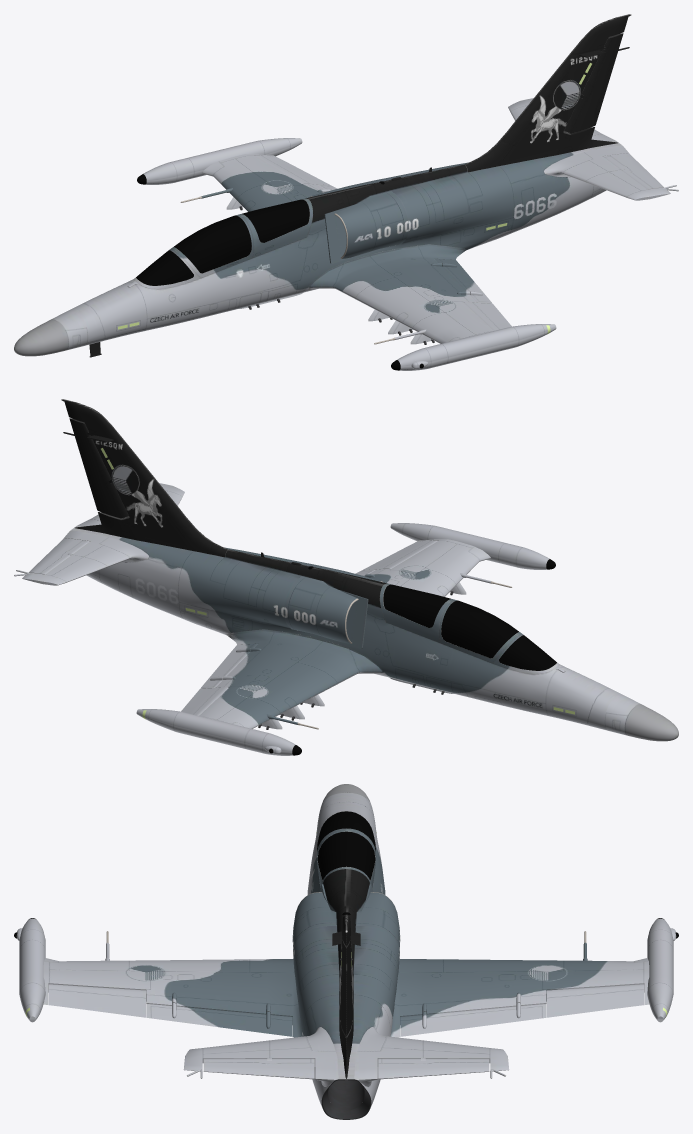
The picture shows the model from 3 angles, top to bottom: view 1: azimuth 30°, elevation 25°; view 2: azimuth 150°, elevation 25°; view 3: azimuth 270°, elevation 25°; orthographic projection. The views are drawn at different scales.
Visible parts, largest first — view 1: Fuselage, WingL, Tail, IntakeL, WingR, TankL, CanopyGlass, HorizontalStabL, CanopyGlassDoor, TankR, Nose, Rudder (+5 smaller); view 2: Fuselage, WingR, Tail, IntakeR, WingL, TankR, CanopyGlass, HorizontalStabR, CanopyGlassDoor, TankL, Nose, Rudder (+5 smaller); view 3: Fuselage, WingR, WingL, HorizontalStabR, HorizontalStabL, FlapR, FlapL, EleronR, EleronL, TankR, TankL, ElevatorR (+10 smaller).
Part boxes in pixels (x1,y1,x2,y2): Fuselage: (71, 140, 621, 345); WingL: (308, 244, 493, 343); Tail: (465, 14, 631, 172); IntakeL: (324, 191, 408, 263); WingR: (201, 154, 331, 211); TankL: (397, 324, 556, 370); CanopyGlass: (136, 199, 309, 285); HorizontalStabL: (544, 145, 678, 200); CanopyGlassDoor: (174, 215, 251, 273); TankR: (143, 138, 302, 184); Nose: (14, 309, 88, 356); Rudder: (564, 33, 629, 133); Fuselage: (71, 525, 621, 730); WingR: (199, 629, 384, 728); Tail: (61, 399, 227, 557); IntakeR: (284, 576, 368, 648); WingL: (361, 539, 491, 596); TankR: (136, 709, 295, 755); CanopyGlass: (383, 584, 556, 670); HorizontalStabR: (14, 530, 148, 585); CanopyGlassDoor: (441, 600, 518, 658); TankL: (390, 523, 549, 569); Nose: (604, 694, 678, 741); Rudder: (63, 418, 128, 518); Fuselage: (293, 798, 399, 1108); WingR: (390, 942, 649, 1037); WingL: (43, 942, 302, 1037); HorizontalStabR: (354, 1027, 509, 1086); HorizontalStabL: (183, 1027, 338, 1086); FlapR: (400, 1003, 546, 1036); FlapL: (146, 1003, 292, 1036); EleronR: (546, 984, 644, 1017); EleronL: (48, 984, 146, 1017); TankR: (647, 918, 676, 1022); TankL: (16, 918, 45, 1022); ElevatorR: (378, 1058, 489, 1079).
Size of the model in its own units: 10 by 3.15 by 7.55.
Materials: 3 (1 with a texture image).
